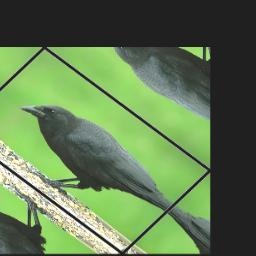Crow: (0, 84, 187, 248)
